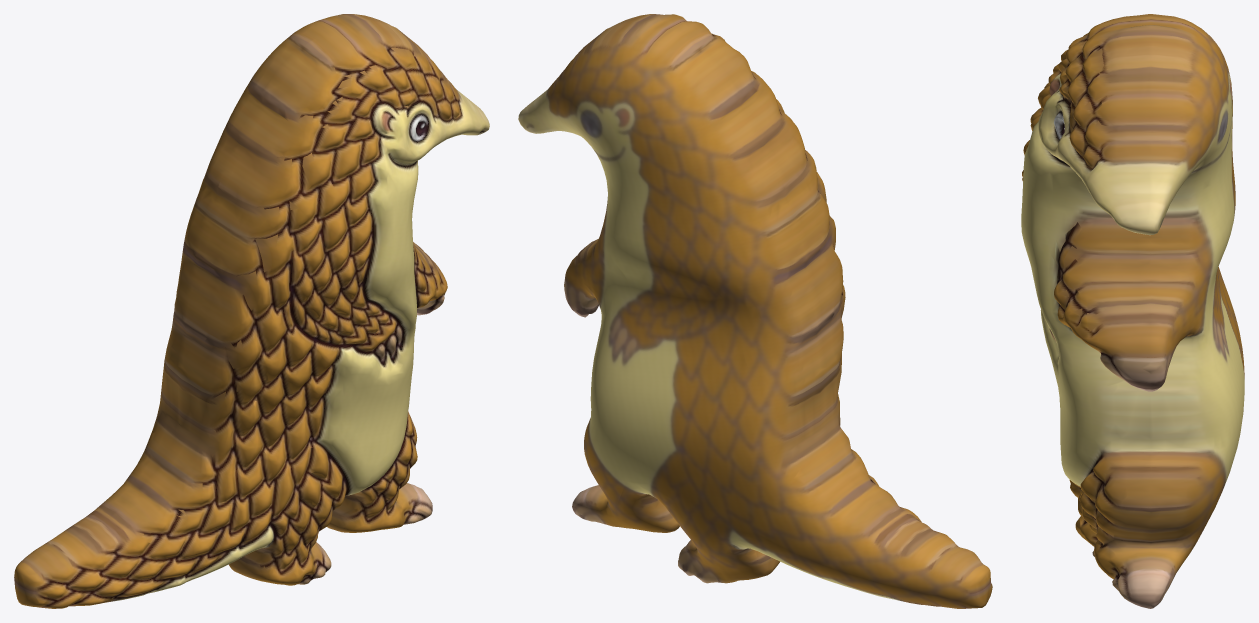
File: NPC_02_穿山甲.glb
3 renders of one model, left to right at view 1: azimuth 30°, elevation 25°; view 2: azimuth 150°, elevation 25°; view 3: azimuth 270°, elevation 25°, orthographic. The views are drawn at different scales.
Parts seen in each view (by area): view 1: pangolin; view 2: pangolin; view 3: pangolin.
Boxes of the visible parts, box(x1,y1,x2,y2) form: pangolin: box(14, 14, 489, 608); pangolin: box(518, 14, 992, 608); pangolin: box(1021, 14, 1244, 608).
Bounding box in the file's own units: 1.48 × 1.65 × 0.5732.
Materials: 1 (1 with a texture image).
